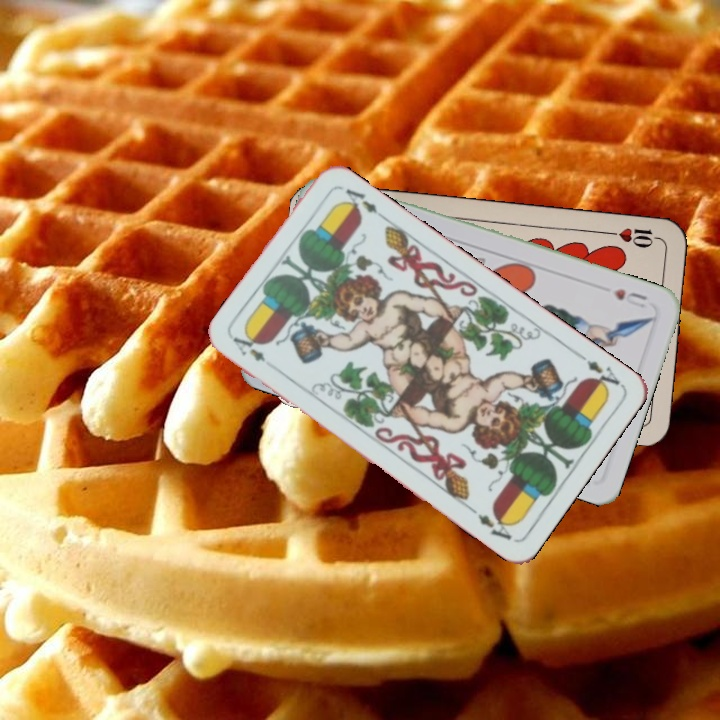EA: (572, 348, 623, 395), (228, 332, 268, 365)
H10: (603, 223, 662, 250)
HU: (609, 284, 650, 311)
